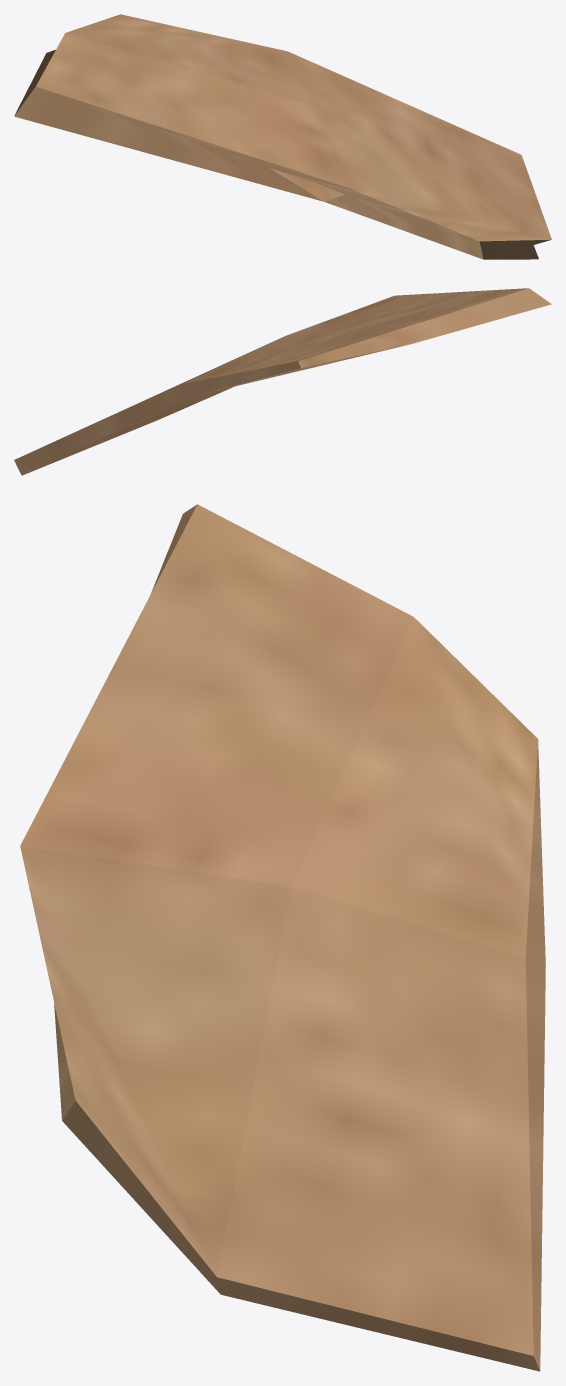
The model's file is Shell_Part1.fbx.
The picture shows the model from 3 angles, top to bottom: view 1: azimuth 30°, elevation 25°; view 2: azimuth 150°, elevation 25°; view 3: azimuth 270°, elevation 25°; orthographic projection. The views are drawn at different scales.
Parts seen in each view (by area): view 1: Sphere; view 2: Sphere; view 3: Sphere.
Boxes of the visible parts, x1=… form: Sphere: x1=14, y1=14, x2=551, y2=259; Sphere: x1=14, y1=288, x2=551, y2=475; Sphere: x1=20, y1=504, x2=545, y2=1371.
Size of the model in its own units: 2.06 by 0.9953 by 1.04.
